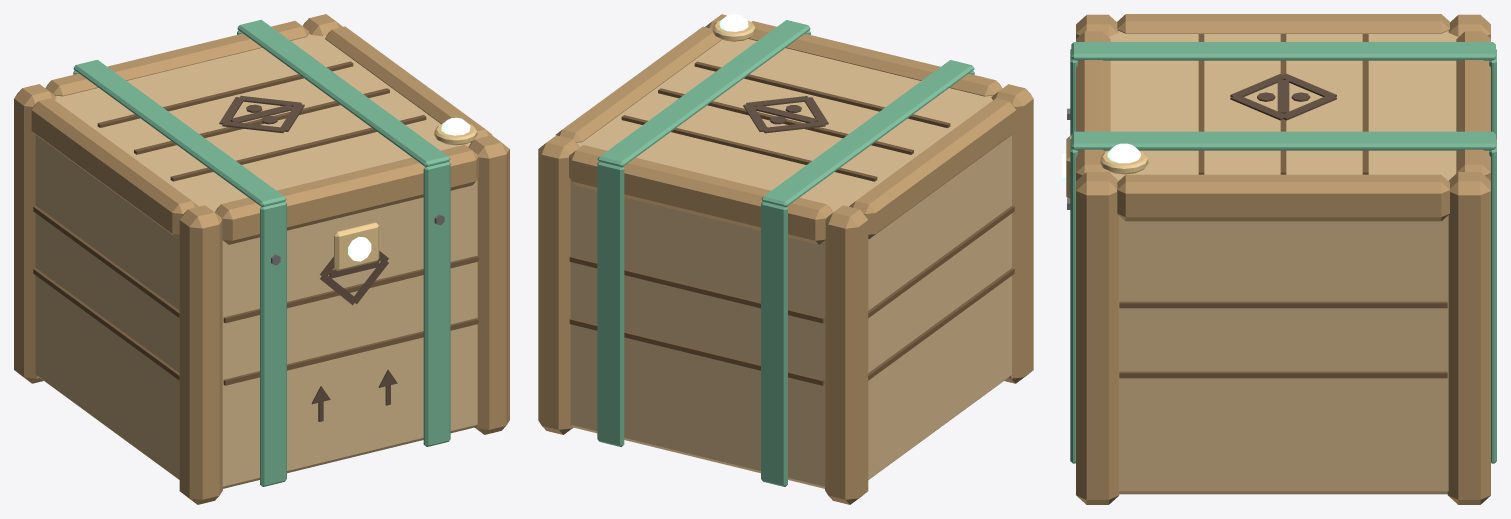
File: crate_done.glb
3 renders of one model, left to right at view 1: azimuth 30°, elevation 25°; view 2: azimuth 150°, elevation 25°; view 3: azimuth 270°, elevation 25°, orthographic. The views are drawn at different scales.
Parts seen in each view (by area): view 1: crate_done; view 2: crate_done; view 3: crate_done.
Part boxes in pixels (x1=…): crate_done: x1=14, y1=14, x2=509, y2=504; crate_done: x1=538, y1=14, x2=1033, y2=504; crate_done: x1=1062, y1=14, x2=1496, y2=504.
Bounding box in the file's own units: 0.86 × 0.7852 × 0.901.
